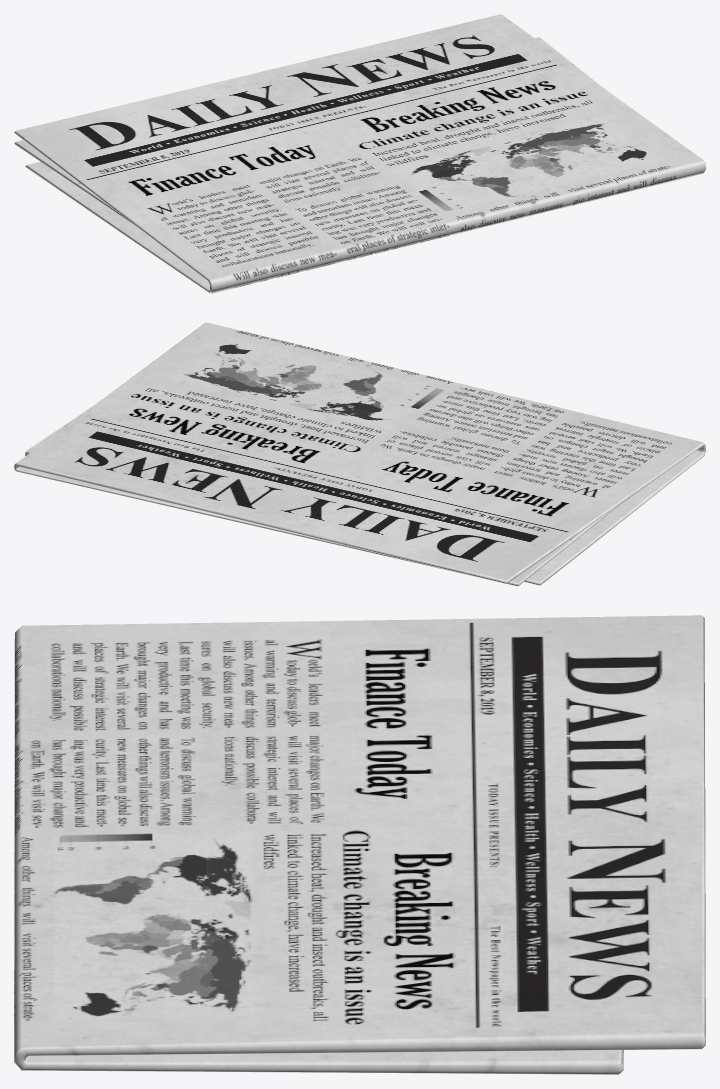
Rendered from SM_NewsPaper_A1.fbx.
3 views of the same model, one above another, from view 1: azimuth 30°, elevation 25°; view 2: azimuth 150°, elevation 25°; view 3: azimuth 270°, elevation 25° (orthographic). The views are drawn at different scales.
Parts seen in each view (by area): view 1: SM_NewsPaper_A1; view 2: SM_NewsPaper_A1; view 3: SM_NewsPaper_A1.
Boxes of the visible parts, x1,y1,x2,y2 form: SM_NewsPaper_A1: [14, 14, 705, 293]; SM_NewsPaper_A1: [14, 322, 705, 586]; SM_NewsPaper_A1: [14, 615, 705, 1074].
Bounding box in the file's own units: 35.24 × 23.53 × 1.35.
Materials: 1 (1 with a texture image).
